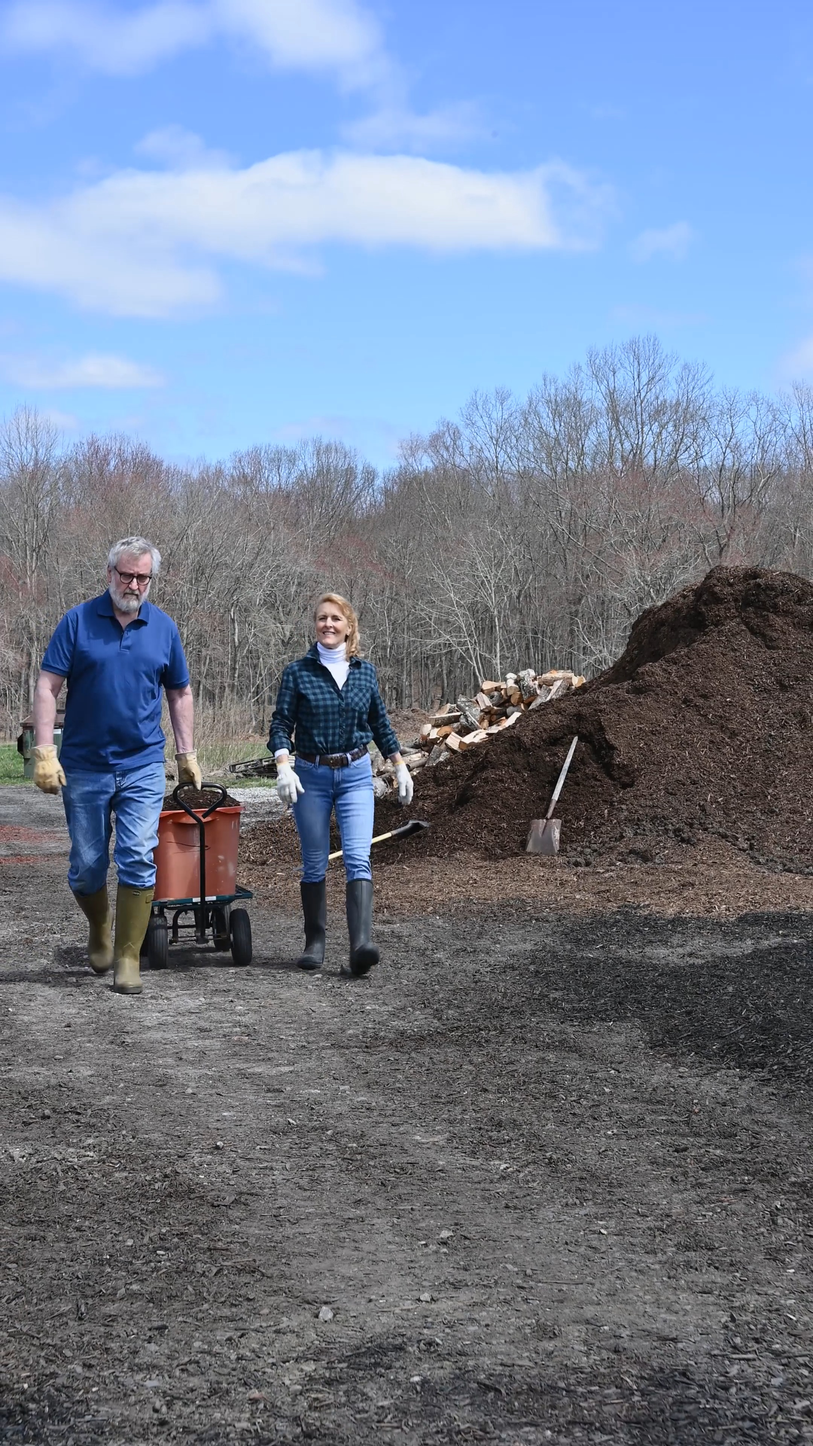gloves: (9, 748, 88, 791), (381, 757, 427, 808), (269, 759, 310, 811), (169, 748, 216, 785)
